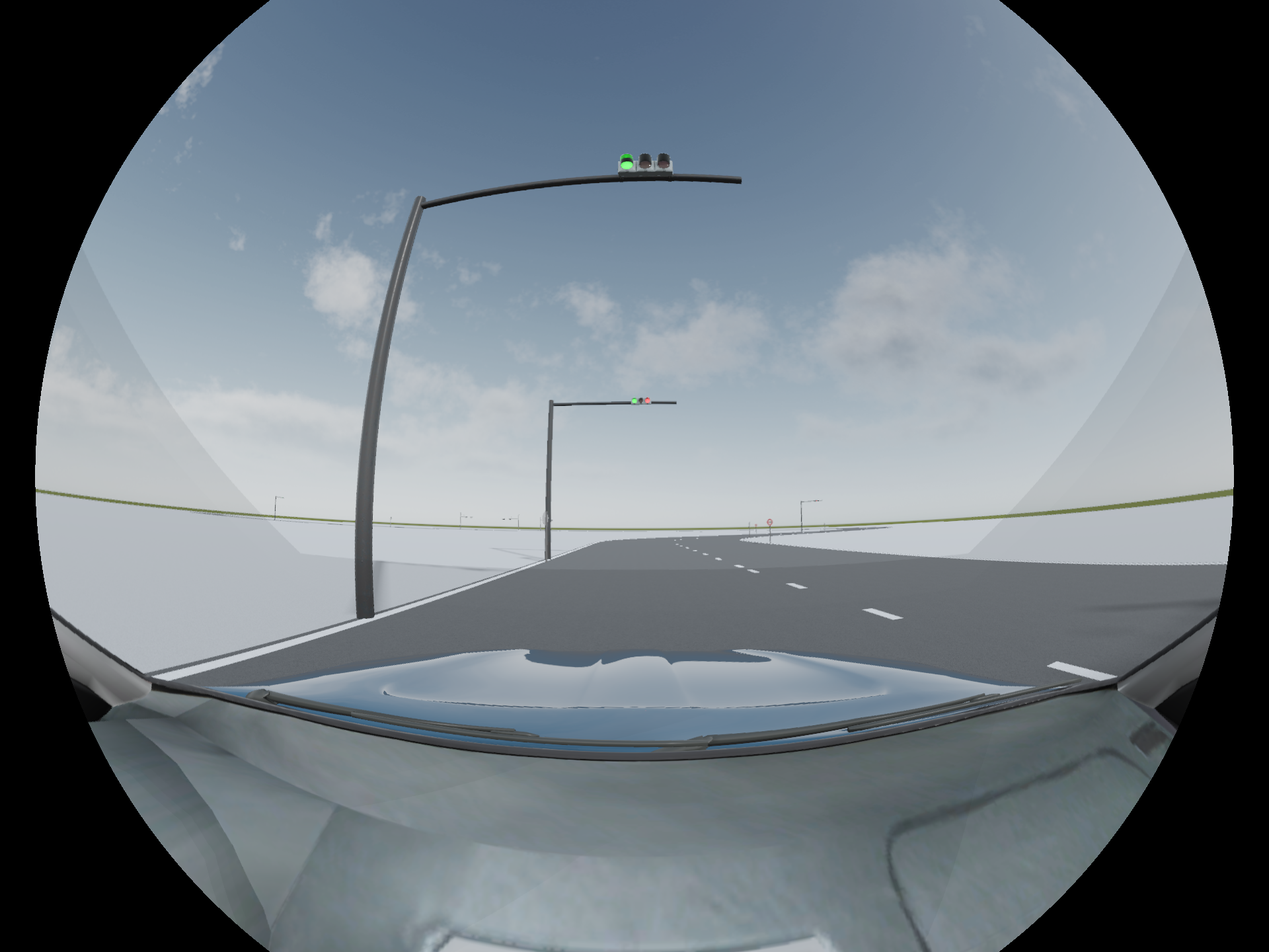Green Light: (618, 152, 677, 179)
